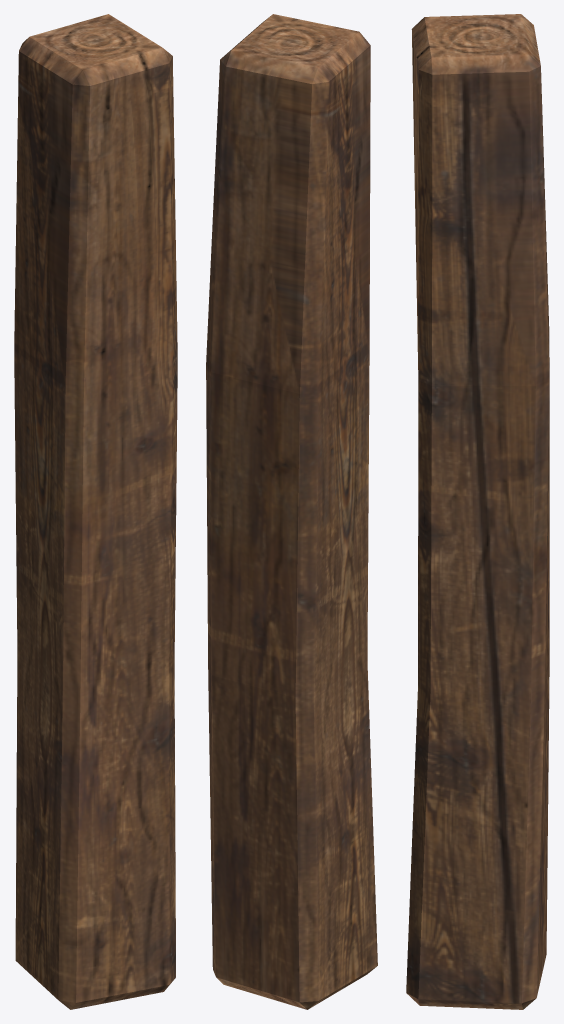
Rendered from Beams 2.fbx.
3 views of the same model, side by side, from view 1: azimuth 30°, elevation 25°; view 2: azimuth 150°, elevation 25°; view 3: azimuth 270°, elevation 25° (orthographic).
Visible parts, largest first — view 1: Beams 2; view 2: Beams 2; view 3: Beams 2.
Part boxes in pixels (x1,y1,x2,y2): Beams 2: (14,14,177,1009); Beams 2: (206,14,377,1009); Beams 2: (406,14,549,1009).
Size of the model in its own units: 0.3219 by 2.4 by 0.3288.
